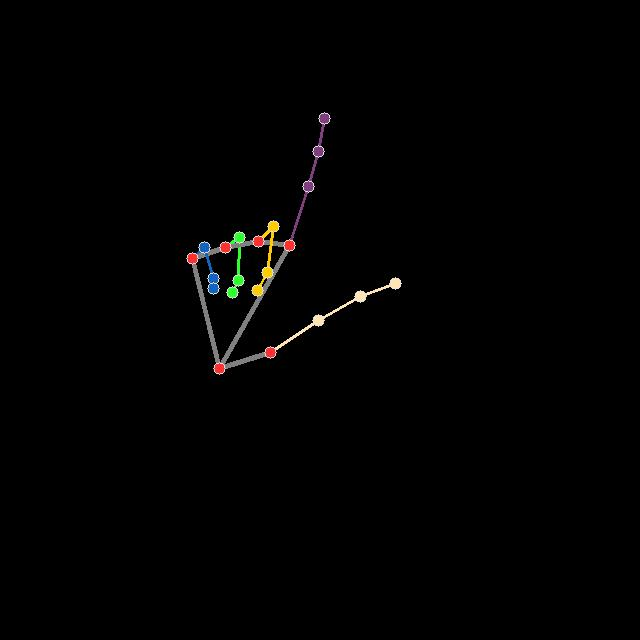gun: (187, 110, 408, 376)
